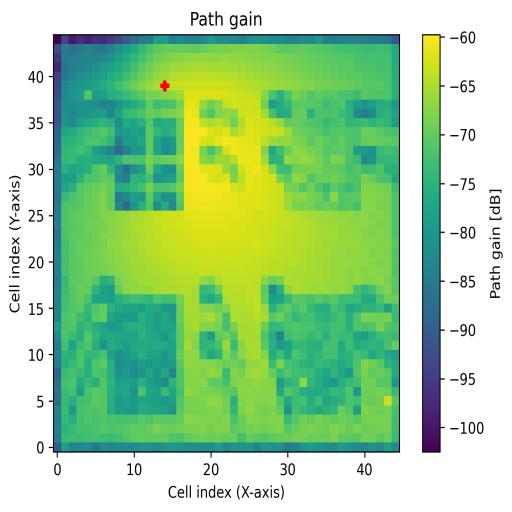Concrete: (285, 101, 361, 212)
Glass: (114, 100, 184, 212)
Metal: (284, 296, 361, 416)
Wood: (107, 294, 177, 415)
